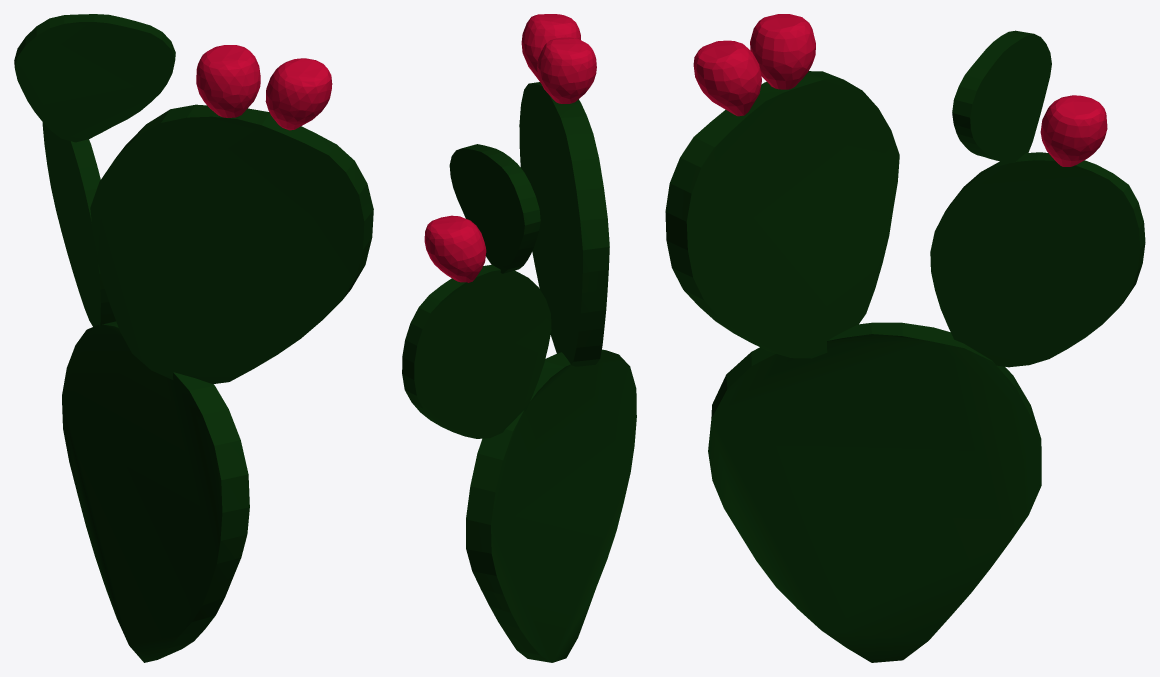
File: Prickly_Pear.obj
3 views of the same model, side by side, from view 1: azimuth 30°, elevation 25°; view 2: azimuth 150°, elevation 25°; view 3: azimuth 270°, elevation 25° (orthographic). The views are drawn at different scales.
Visible parts, largest first — view 1: Prickly_Pear; view 2: Prickly_Pear; view 3: Prickly_Pear.
Part boxes in pixels (bbox=[...]): Prickly_Pear: bbox=[14, 14, 373, 662]; Prickly_Pear: bbox=[402, 14, 636, 662]; Prickly_Pear: bbox=[665, 14, 1145, 662].
Size of the model in its own units: 0.19 by 0.6 by 0.4.
